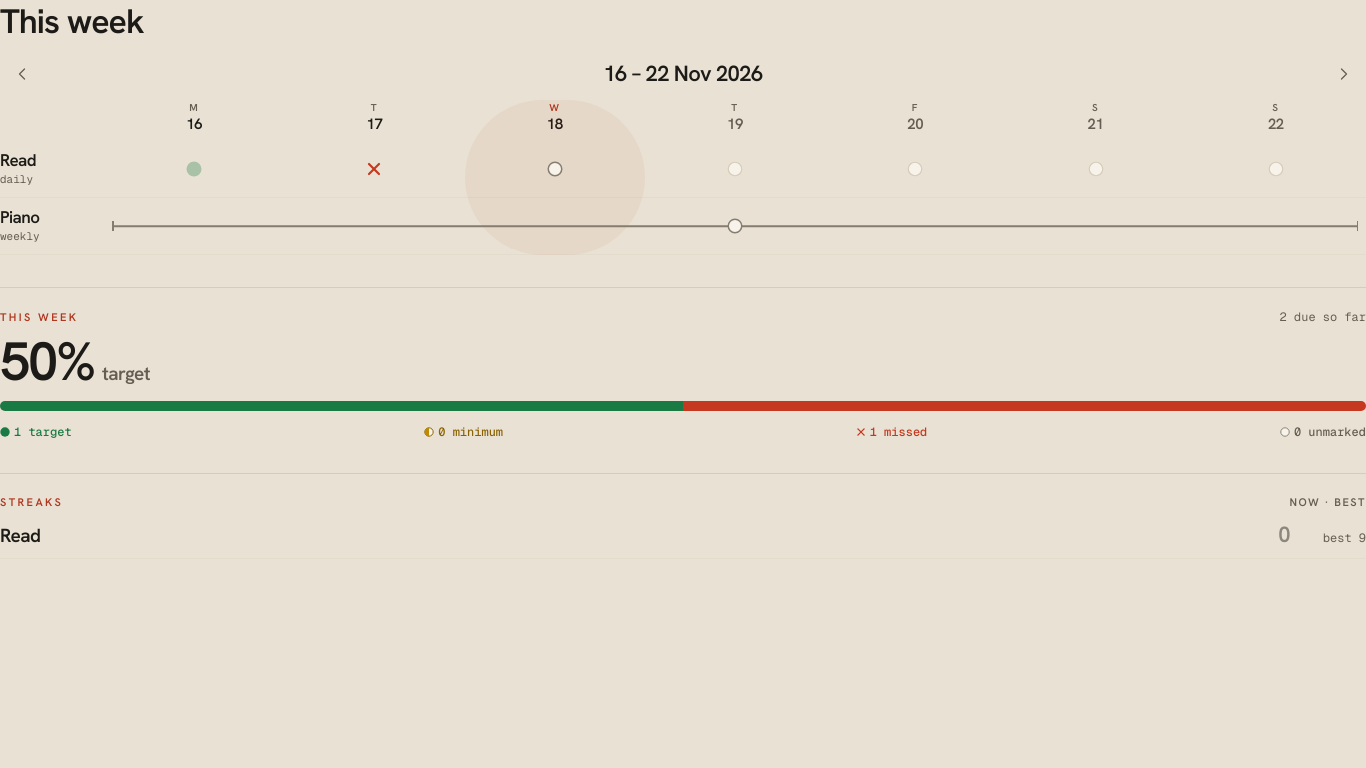
WeekPanel › has no Clear for an unmarked weekly period and closes on a backdrop tap
The image size is (1366, 768).
Click the button named "Piano". click: (735, 226)
box: 104,204 -> 1365,248
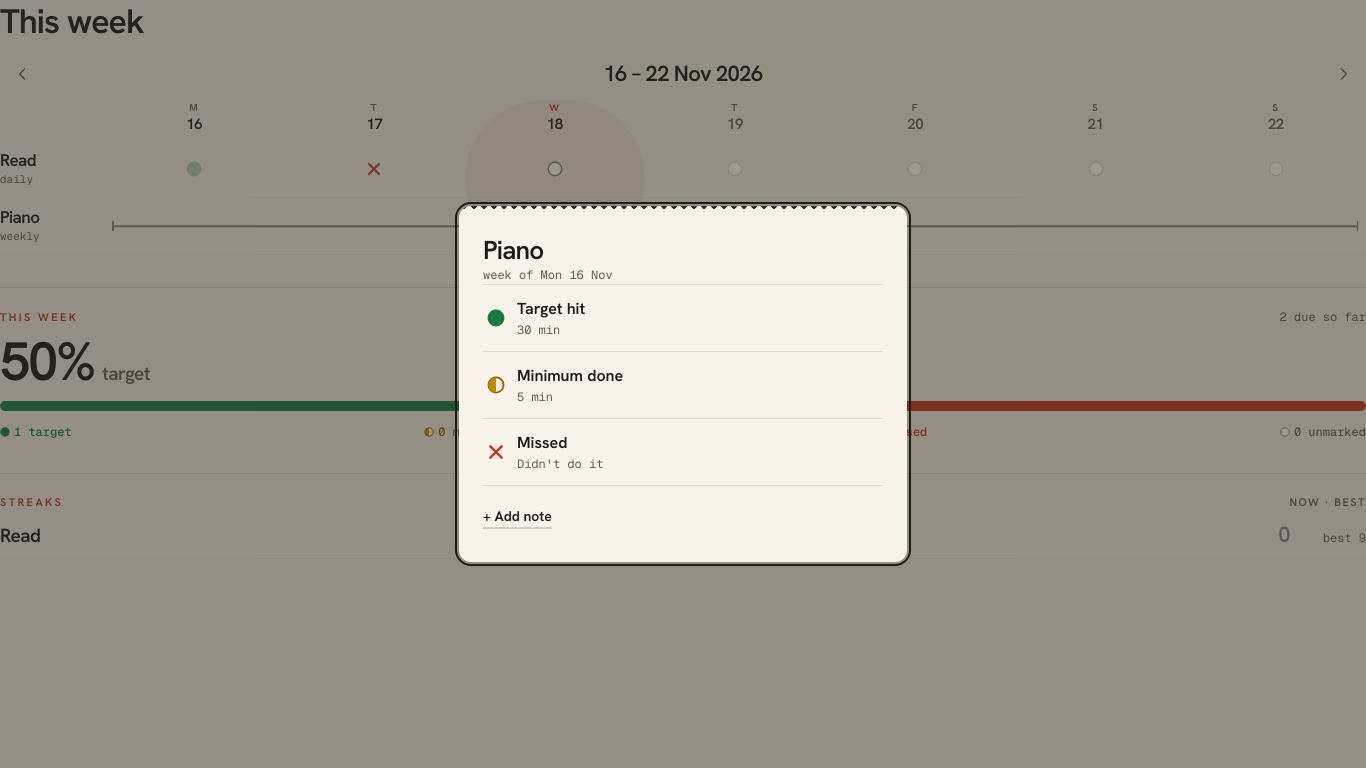
Click the element that starts with "Piano". click: (82, 384)
box: 0,0 -> 1365,767
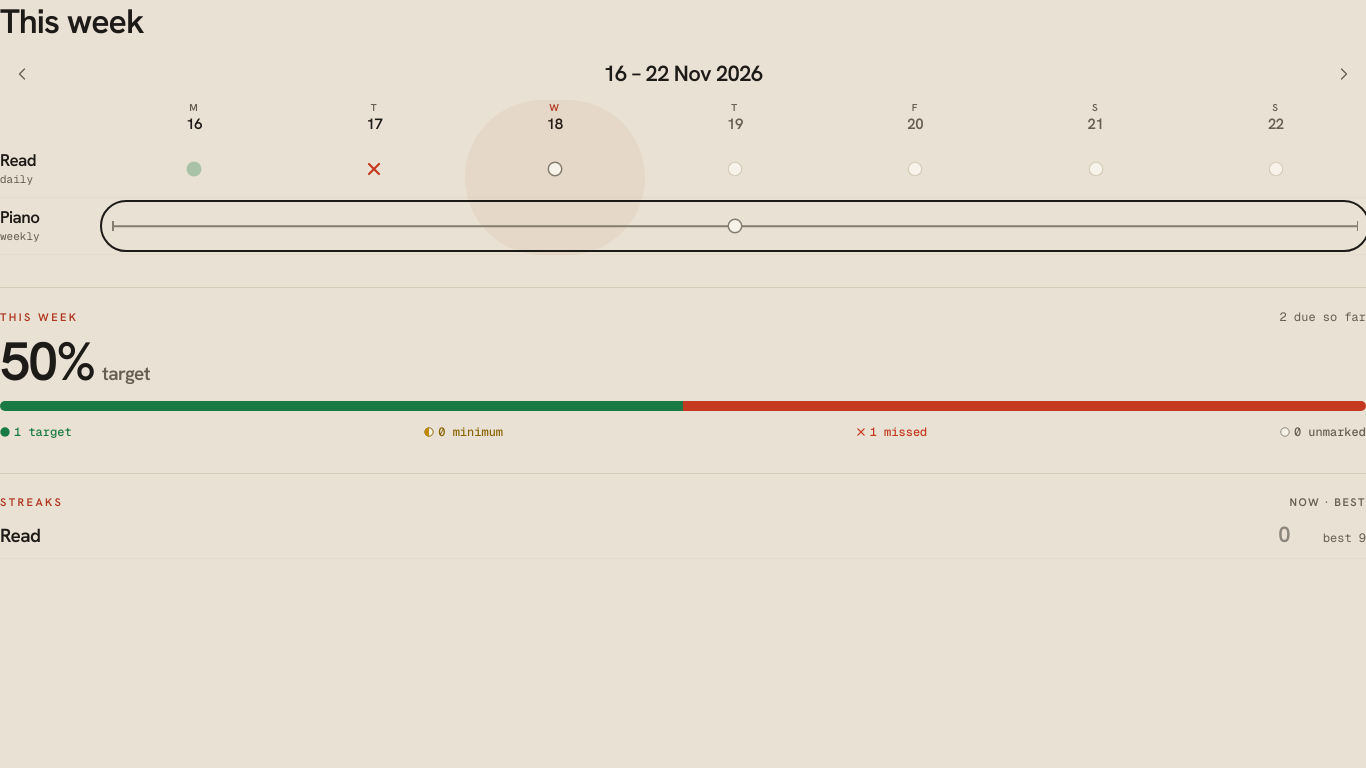
Check: the dialog is gone
